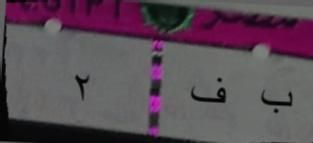2: (69, 65, 95, 110)
baa: (254, 82, 300, 123)
faa: (188, 70, 231, 117)
